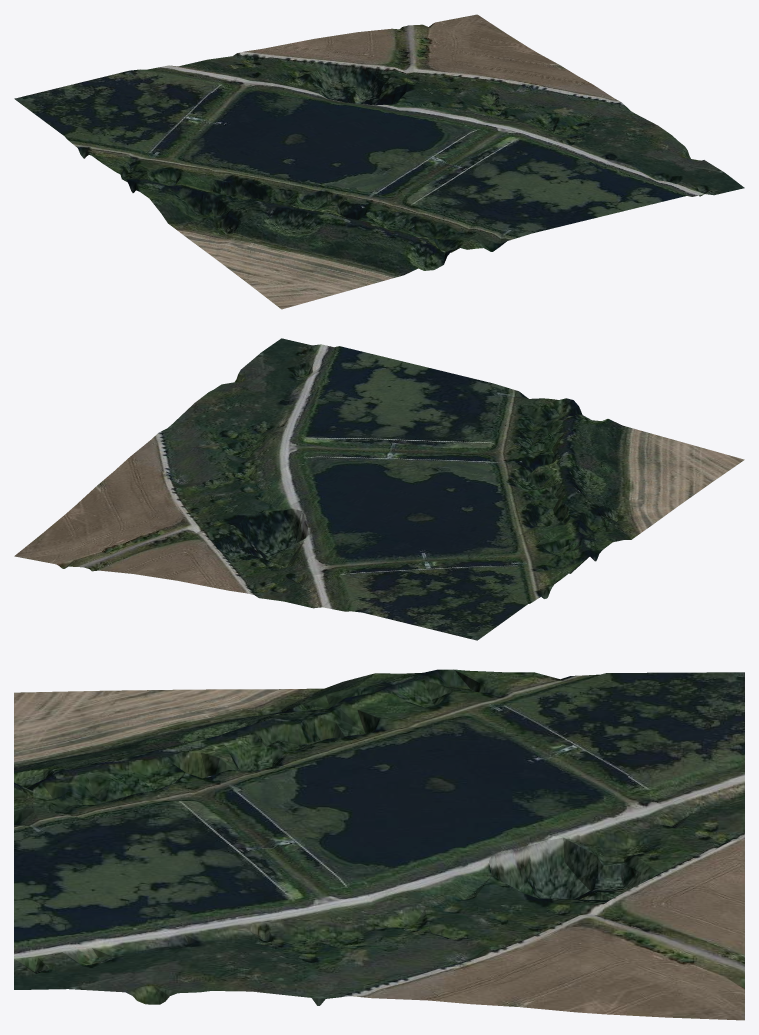
File: map_13_2047_3442.dae
The picture shows the model from 3 angles, top to bottom: view 1: azimuth 30°, elevation 25°; view 2: azimuth 150°, elevation 25°; view 3: azimuth 270°, elevation 25°; orthographic projection. The views are drawn at different scales.
Parts seen in each view (by area): view 1: Ter0; view 2: Ter0; view 3: Ter0.
Part boxes in pixels (box(x1,y1,x2,y2)): Ter0: box(14, 14, 744, 309); Ter0: box(14, 338, 744, 640); Ter0: box(14, 669, 744, 1020).
Bounding box in the file's own units: 256 × 256 × 23.21.
3 materials, 3 textured.
